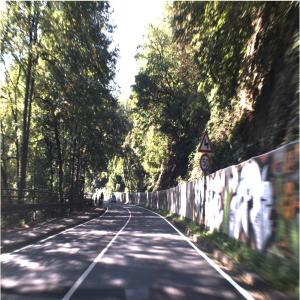bend: (199, 130, 214, 155)
